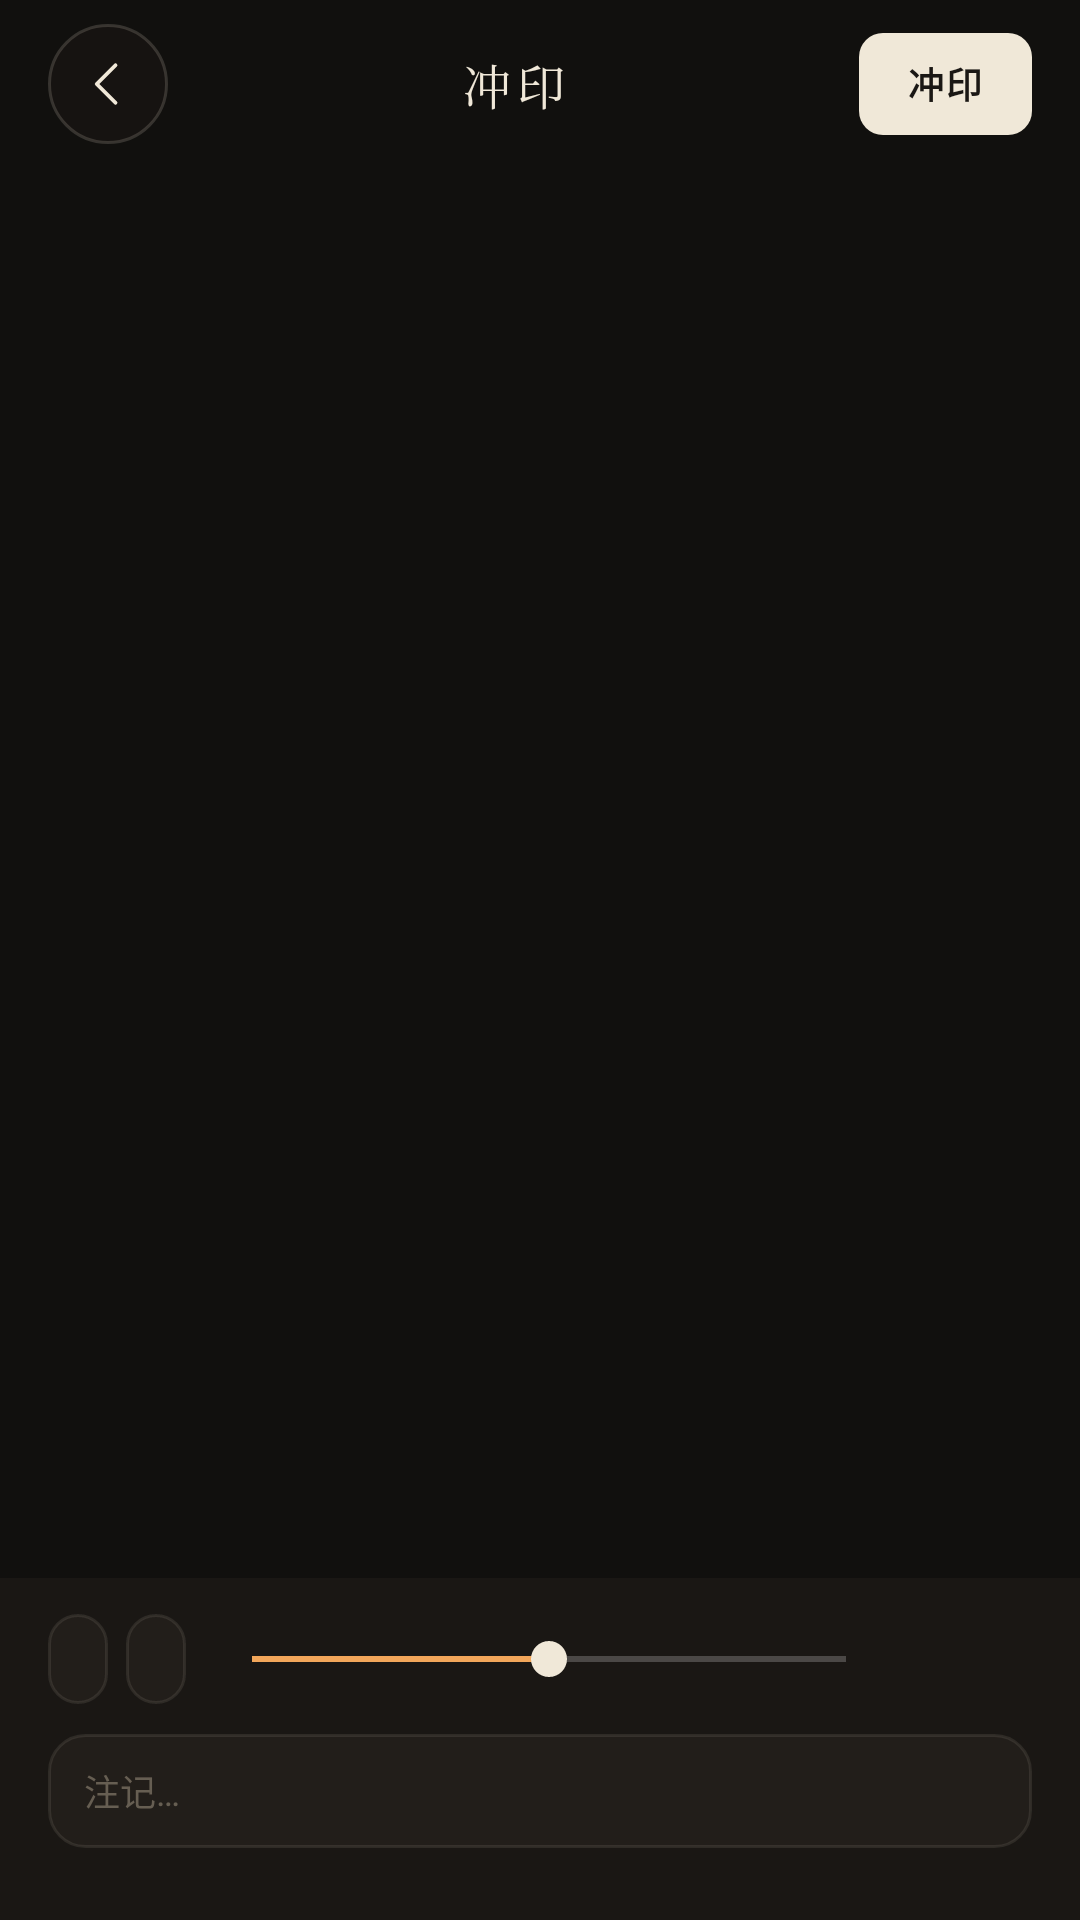

Icons on this 1080px×1920px Android screen, each with its box as (x1, y1, x2, y2):
取消: (48, 24, 168, 144)
